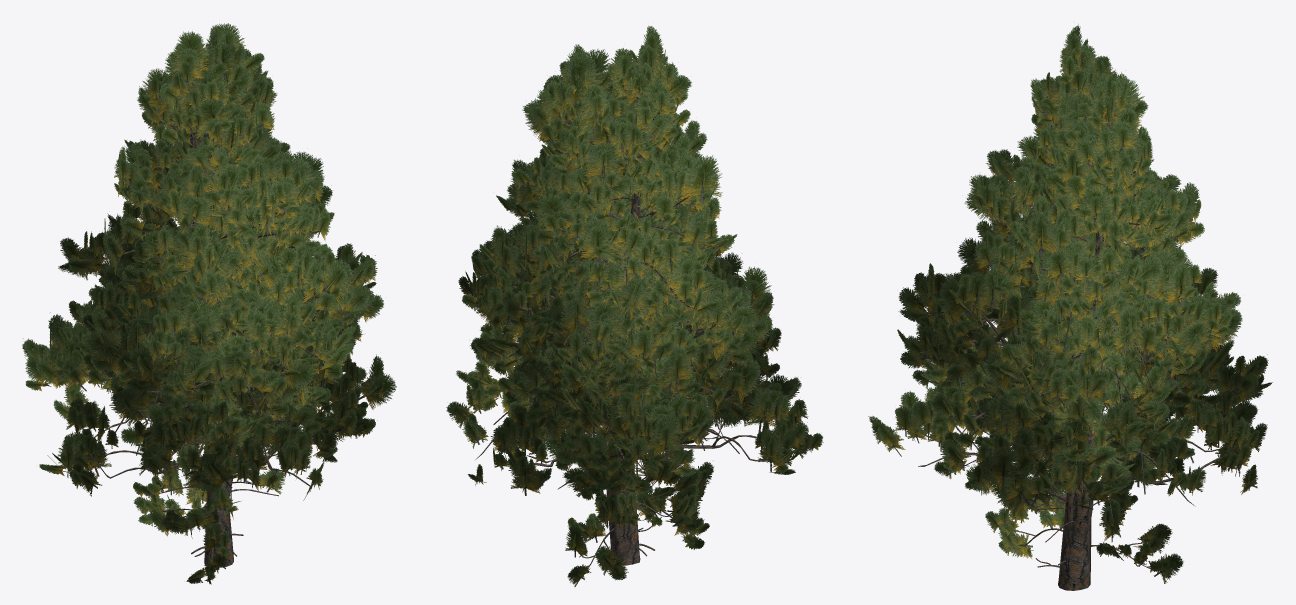
File: cay-thong.glb
3 renders of one model, left to right at view 1: azimuth 30°, elevation 25°; view 2: azimuth 150°, elevation 25°; view 3: azimuth 270°, elevation 25°, orthographic.
Parts seen in each view (by area): view 1: thong1_g_la, thong2_g_la, thong2_x_la, thong1_x_la, thong1_b_la, thong2_b_la, thong3_b_la, thong3_g_la, thong6_g_la, thong6_b_la, thong3_x_la, thong6_x_la (+5 smaller); view 2: thong1_g_la, thong2_g_la, thong1_x_la, thong2_x_la, thong2_b_la, thong1_b_la, thong6_b_la, thong3_g_la, thong3_x_la, thong6_g_la, thong3_b_la, thong6_x_la (+6 smaller); view 3: thong1_g_la, thong2_g_la, thong1_x_la, thong2_x_la, thong1_b_la, thong2_b_la, thong4_b_la, thong3_b_la, thong4_x_la, thong4_g_la, thong6_g_la, thong3_x_la (+7 smaller).
Part boxes in pixels (box(x1,y1,x2,y2)): thong1_g_la: box(22, 42, 392, 489); thong2_g_la: box(25, 27, 376, 490); thong2_x_la: box(26, 23, 383, 496); thong1_x_la: box(22, 31, 387, 491); thong1_b_la: box(25, 53, 396, 500); thong2_b_la: box(42, 24, 376, 492); thong3_b_la: box(103, 173, 345, 486); thong3_g_la: box(103, 187, 337, 472); thong6_g_la: box(133, 378, 279, 584); thong6_b_la: box(138, 392, 285, 580); thong3_x_la: box(101, 175, 337, 475); thong6_x_la: box(133, 442, 281, 581); thong1_g_la: box(458, 32, 795, 495); thong2_g_la: box(450, 50, 823, 506); thong1_x_la: box(456, 25, 801, 499); thong2_x_la: box(446, 44, 811, 510); thong2_b_la: box(473, 49, 795, 496); thong1_b_la: box(465, 62, 768, 495); thong6_b_la: box(565, 398, 714, 586); thong3_g_la: box(514, 192, 733, 470); thong3_x_la: box(520, 190, 752, 460); thong6_g_la: box(567, 426, 709, 578); thong3_b_la: box(514, 191, 766, 468); thong6_x_la: box(569, 425, 709, 582); thong1_g_la: box(871, 31, 1266, 508); thong2_g_la: box(901, 78, 1263, 504); thong1_x_la: box(873, 24, 1268, 514); thong2_x_la: box(899, 69, 1267, 499); thong1_b_la: box(868, 62, 1272, 495); thong2_b_la: box(897, 70, 1254, 503); thong4_b_la: box(984, 250, 1171, 496); thong3_b_la: box(969, 196, 1190, 515); thong4_x_la: box(975, 276, 1160, 492); thong4_g_la: box(973, 283, 1158, 487); thong6_g_la: box(987, 401, 1176, 574); thong3_x_la: box(955, 206, 1195, 505).
Bounding box in the file's own units: 8.53 × 12.98 × 9.06.
Materials: 2 (2 with a texture image).
